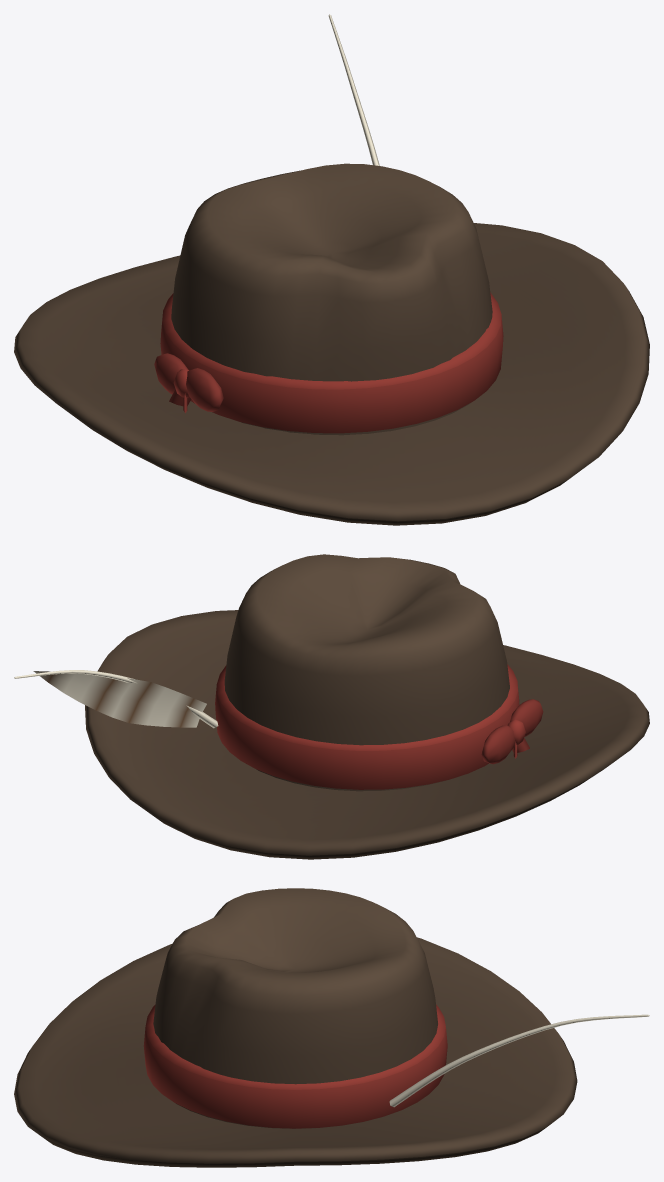
The model's file is hat_felt.glb.
3 renders of one model, top to bottom at view 1: azimuth 30°, elevation 25°; view 2: azimuth 150°, elevation 25°; view 3: azimuth 270°, elevation 25°, orthographic. The views are drawn at different scales.
Visible parts, largest first — view 1: hat_felt_LOD0; view 2: hat_felt_LOD0; view 3: hat_felt_LOD0.
Boxes of the visible parts, bbox=[...] form: hat_felt_LOD0: bbox=[14, 14, 649, 525]; hat_felt_LOD0: bbox=[14, 554, 649, 859]; hat_felt_LOD0: bbox=[14, 888, 649, 1167].
Size of what is drawn, in the model's own units: 0.634 by 0.2165 by 0.7156.
